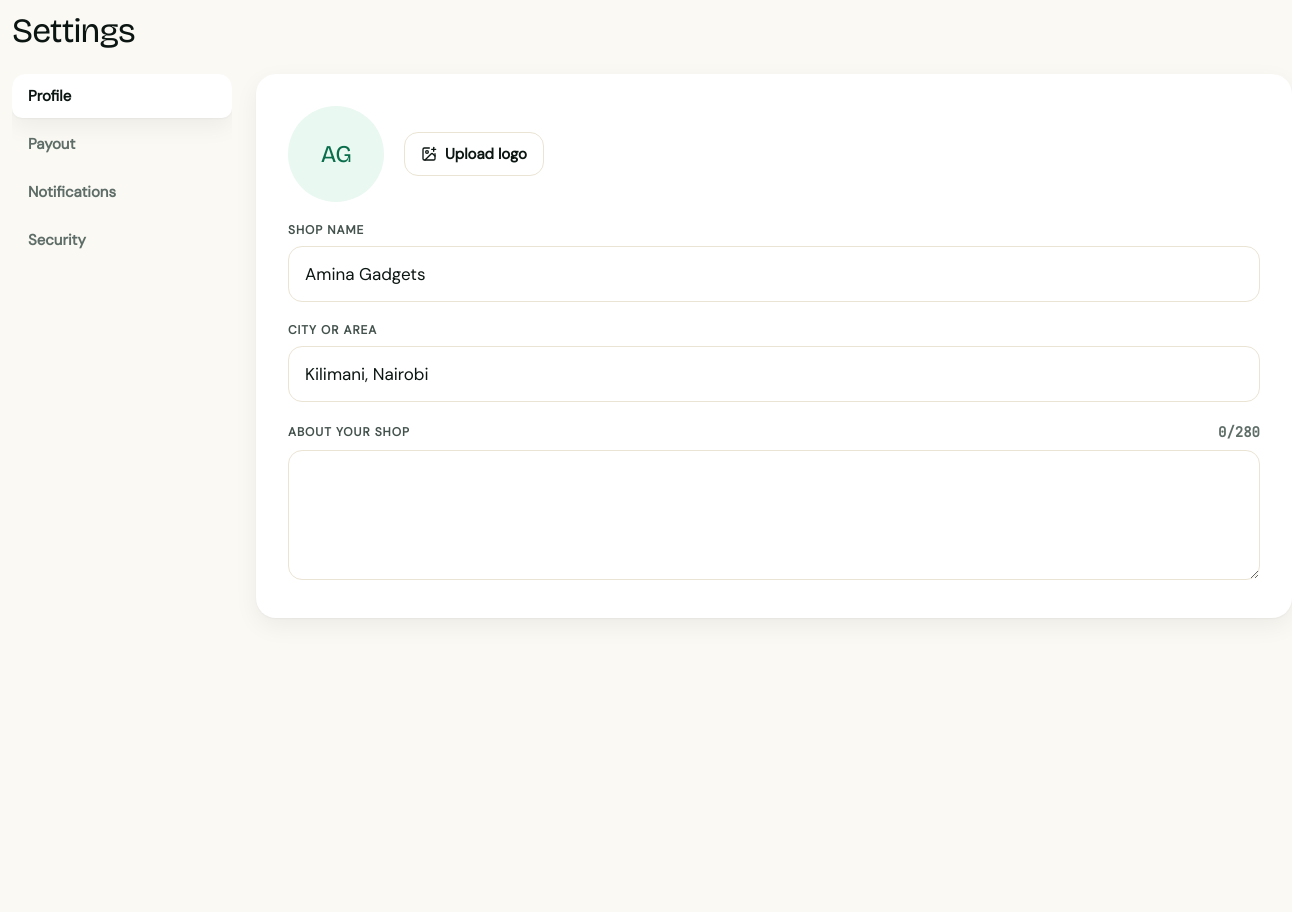
Test: S13 settings: profile › checks the shop name and discards edits
Clear the field labelled "Shop name" at {"x": 774, "y": 274}, box [288, 246, 1260, 302]
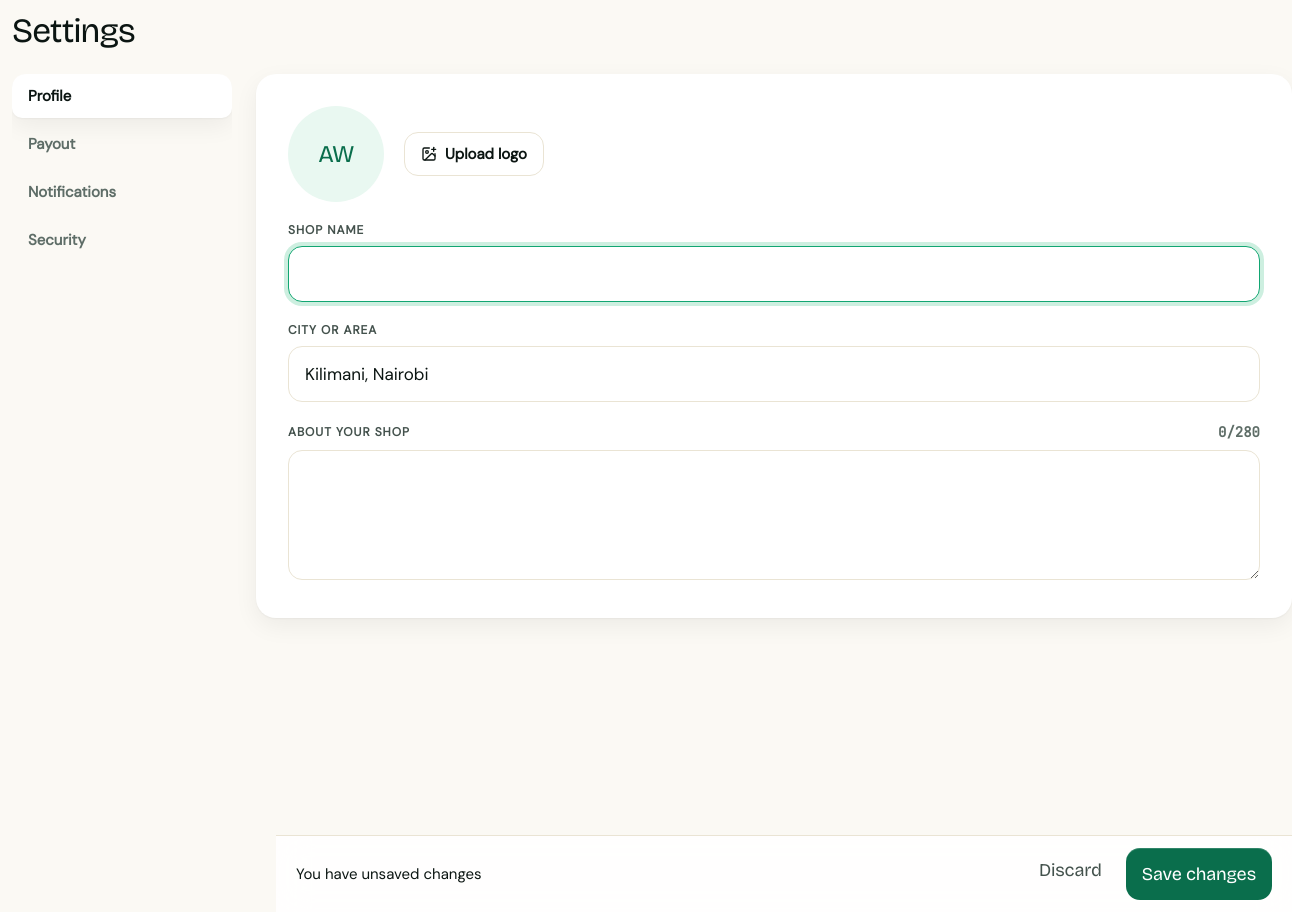
Click the button "Save changes" at {"x": 1199, "y": 874}, box [1126, 848, 1272, 900]
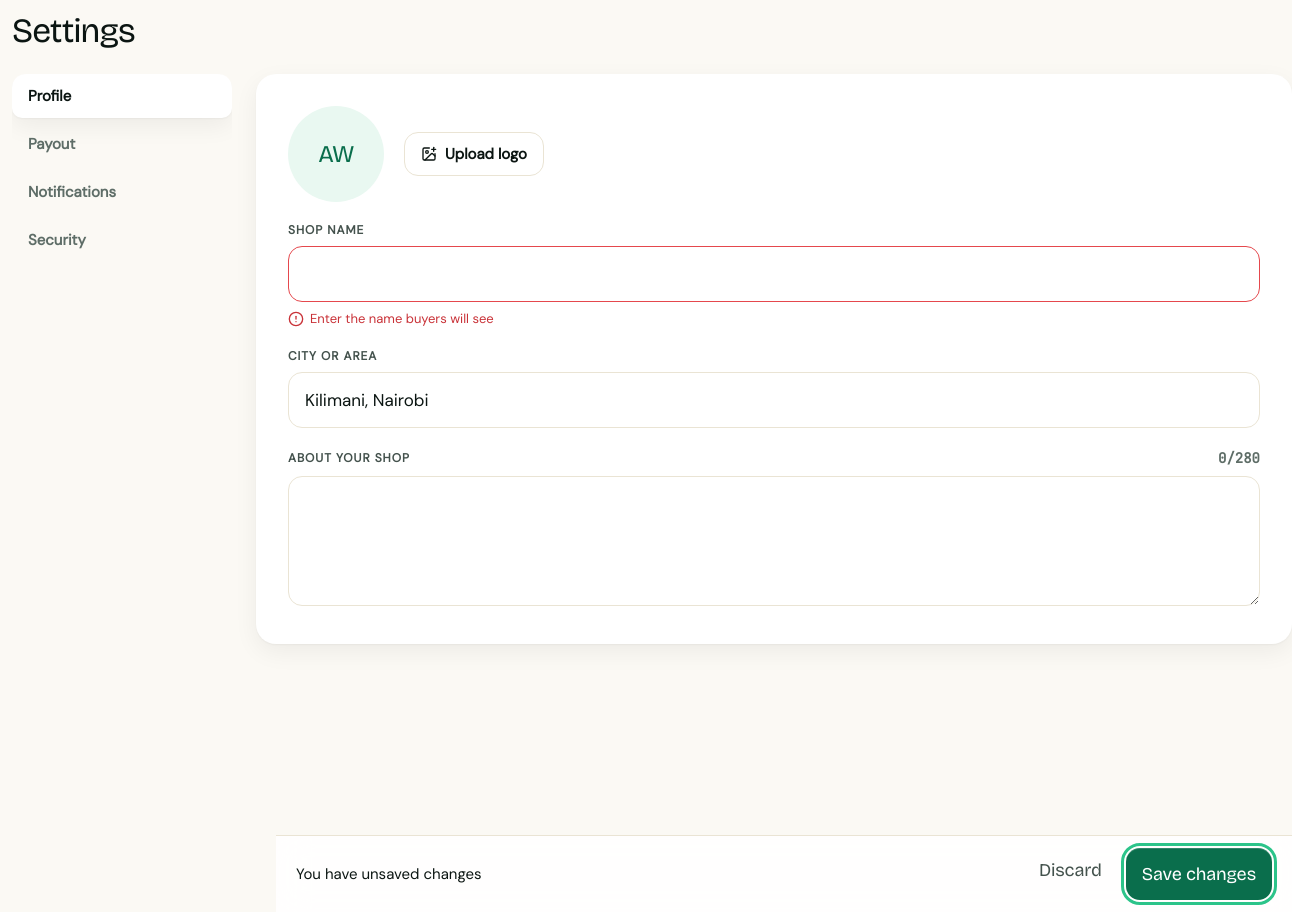
Check: the text "Enter the name buyers will see" is shown, box [288, 310, 494, 327]
Click the button "Discard" at {"x": 1070, "y": 870}, box [1023, 848, 1118, 892]
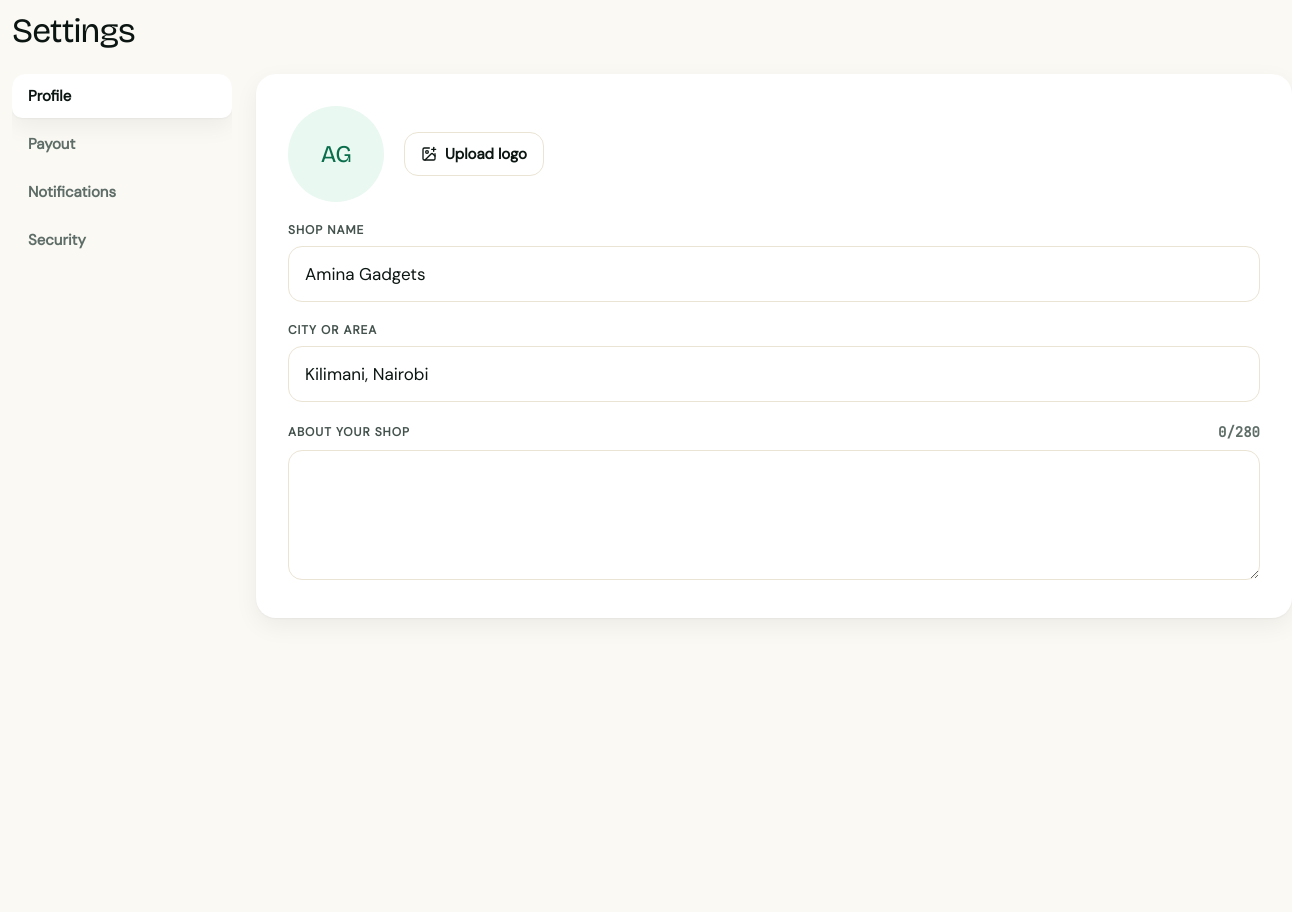
Check: the field labelled "Shop name" holds "Amina Gadgets", box [288, 246, 1260, 302]
